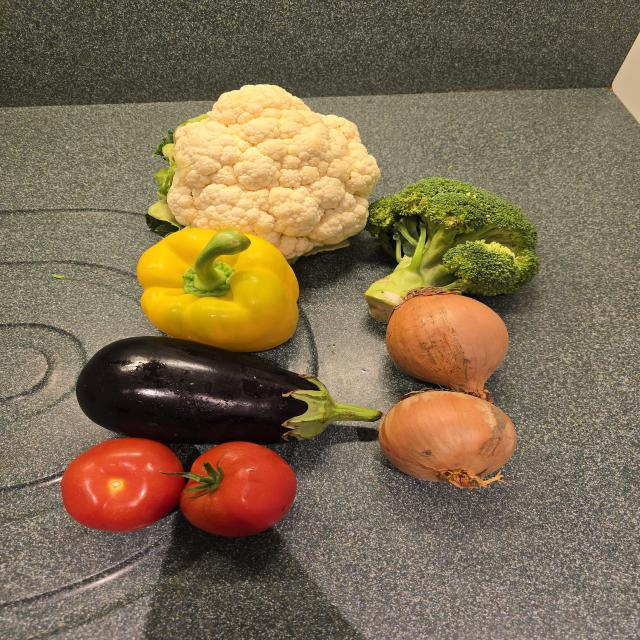Bell Pepper: (137, 229, 299, 352)
Broccoli: (366, 178, 539, 324)
Cauliflower: (149, 85, 380, 262)
Eggplant: (76, 336, 381, 444)
Onion: (379, 390, 516, 488), (386, 293, 508, 399)
Tomato: (61, 438, 185, 532), (180, 442, 297, 536)
